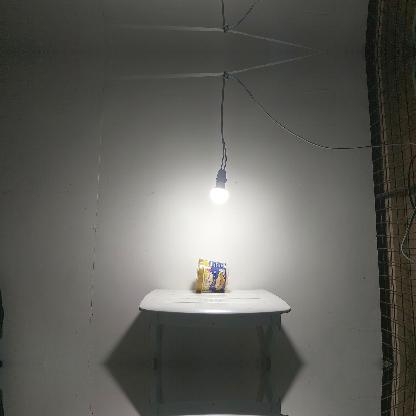Lady-s-Choice: (194, 258, 228, 292)
